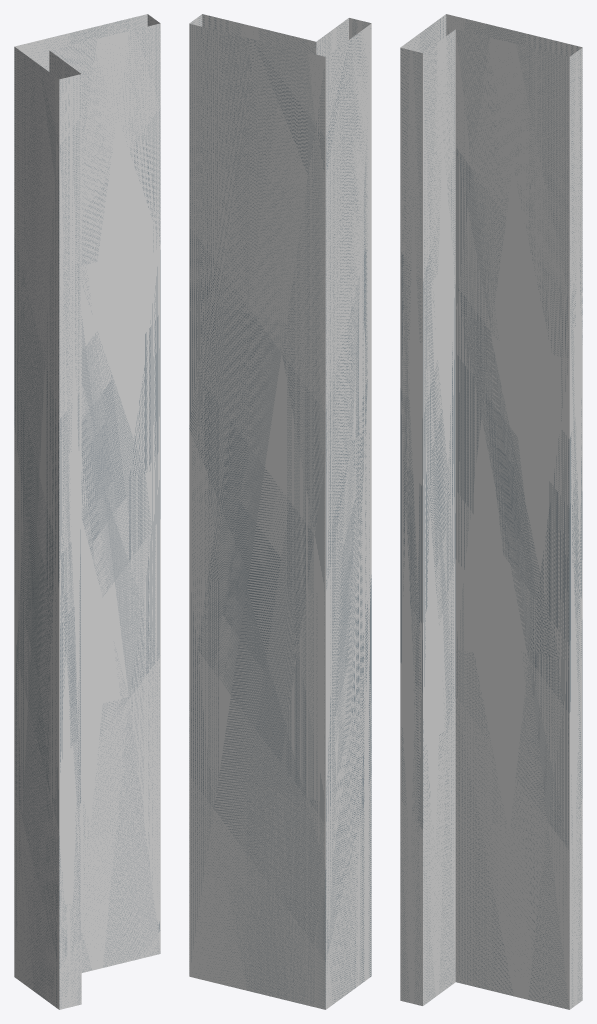
File: PW_CornerFixElem_ds_T3_035x060x010x400.dae
3 renders of one model, left to right at view 1: azimuth 30°, elevation 25°; view 2: azimuth 150°, elevation 25°; view 3: azimuth 330°, elevation 25°, orthographic. The views are drawn at different scales.
Visible parts, largest first — view 1: group_0; view 2: group_0; view 3: group_0.
Part boxes in pixels (box(x1,y1,x2,y2)): group_0: box(14, 14, 160, 1009); group_0: box(189, 14, 371, 1009); group_0: box(400, 14, 582, 1009).
Size of the model in its own units: 23.62 by 13.78 by 157.
